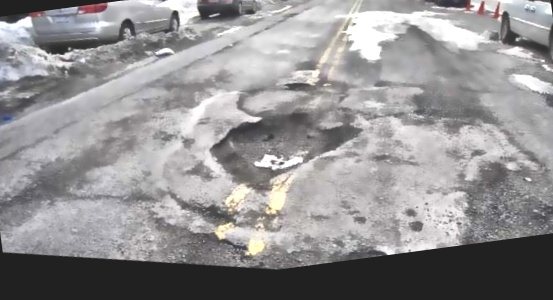pothole: (283, 74, 312, 96)
